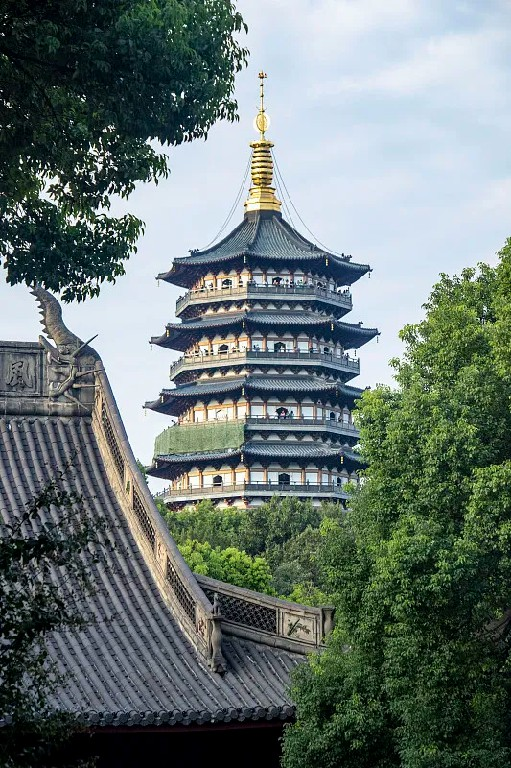Leifeng: (141, 73, 382, 553)
